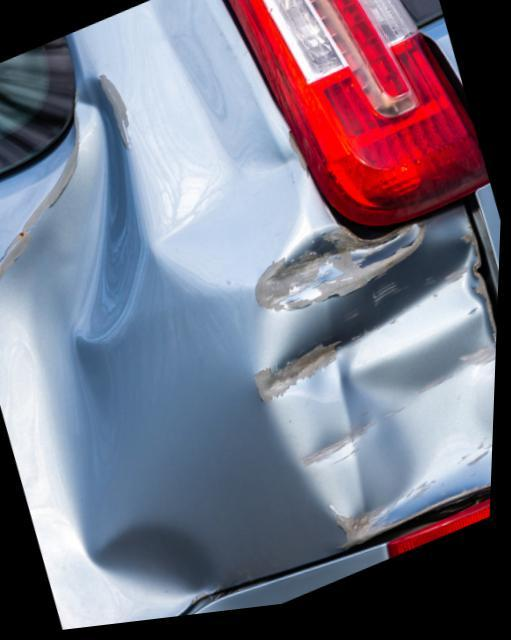dent: (0, 0, 500, 632)
